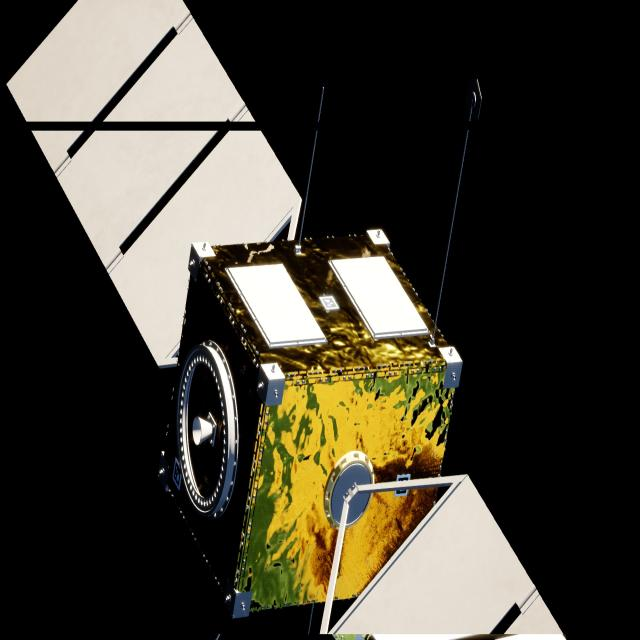medium_debris: (9, 0, 561, 640)
